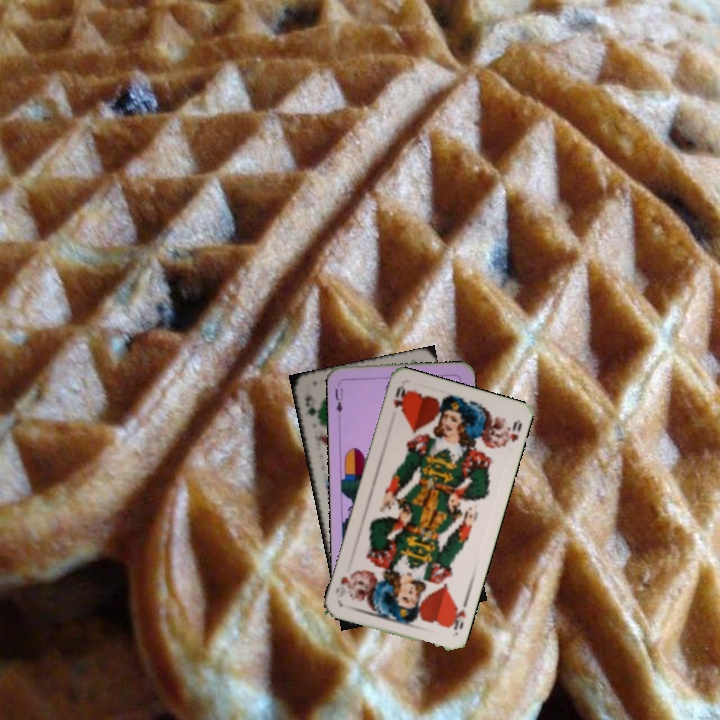EU: (331, 384, 345, 415)
GK: (301, 391, 322, 426)
HO: (445, 600, 469, 632), (389, 382, 410, 414)
